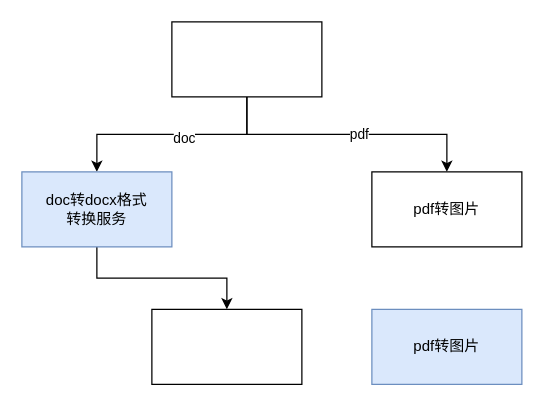
The diagram is 544 pixels wide and 406 high, and some of its shapes have lost their labels. The centre of each missing label's shape, as x and y in pixels:
"python-docx识别表格" belongs at [226,346].
"文件流" belongs at [246,59].
